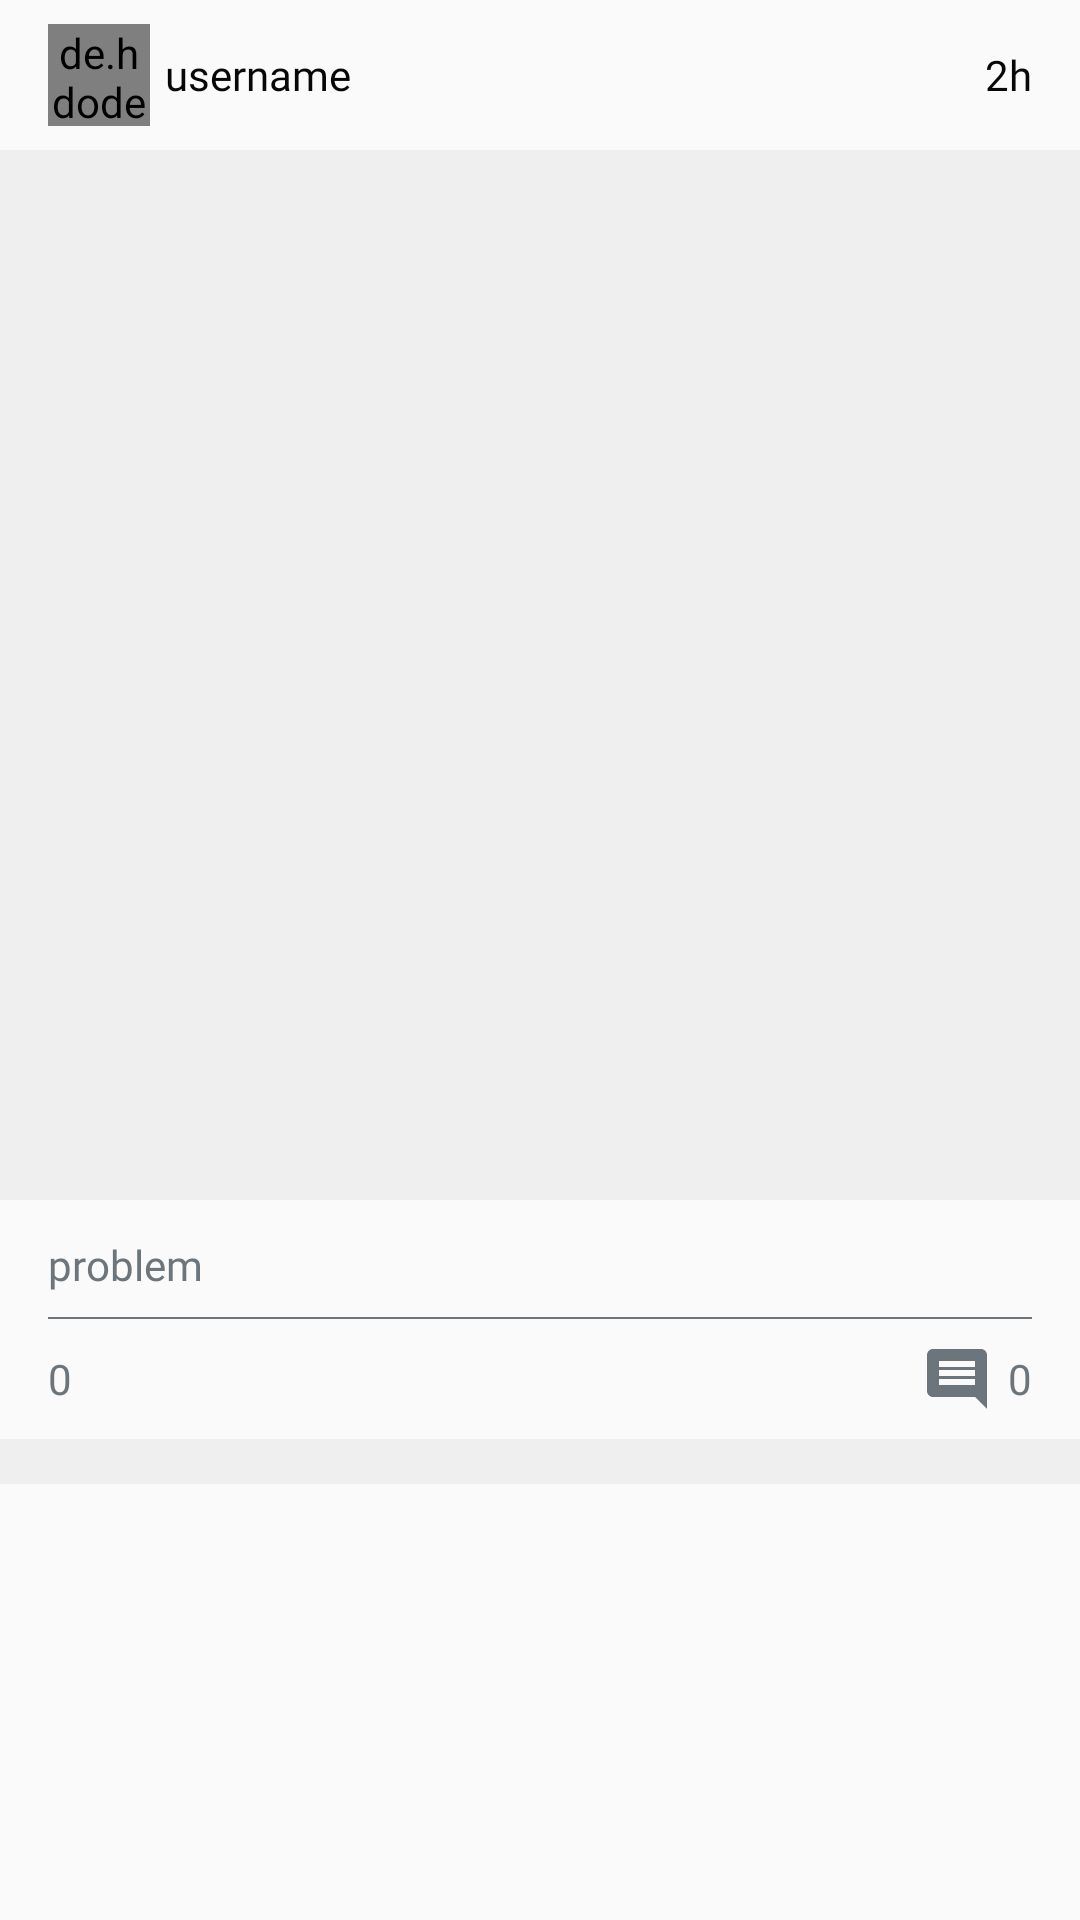

Icons on this 1080*1920 Android screen, each with its box as bbox=(x1, y1, x2, y2):
comment: bbox=(927, 1349, 987, 1409)
